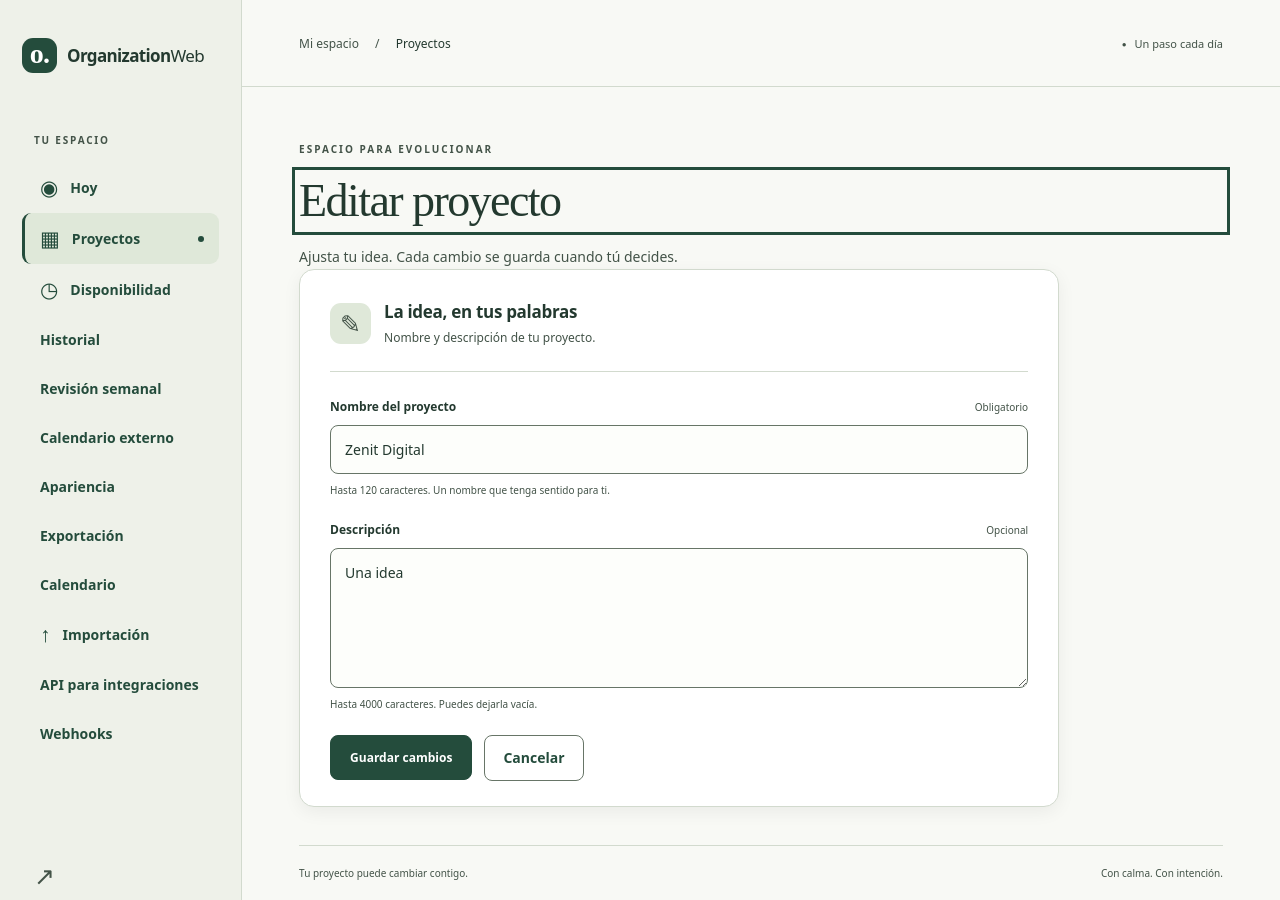
@s19 solo recarga versión guardada mediante decisión explícita tras conflicto
Replace the text in the field labelled "Nombre del proyecto Obligatorio" with "Mi borrador". click: (679,450)
box: [330, 425, 1028, 474]
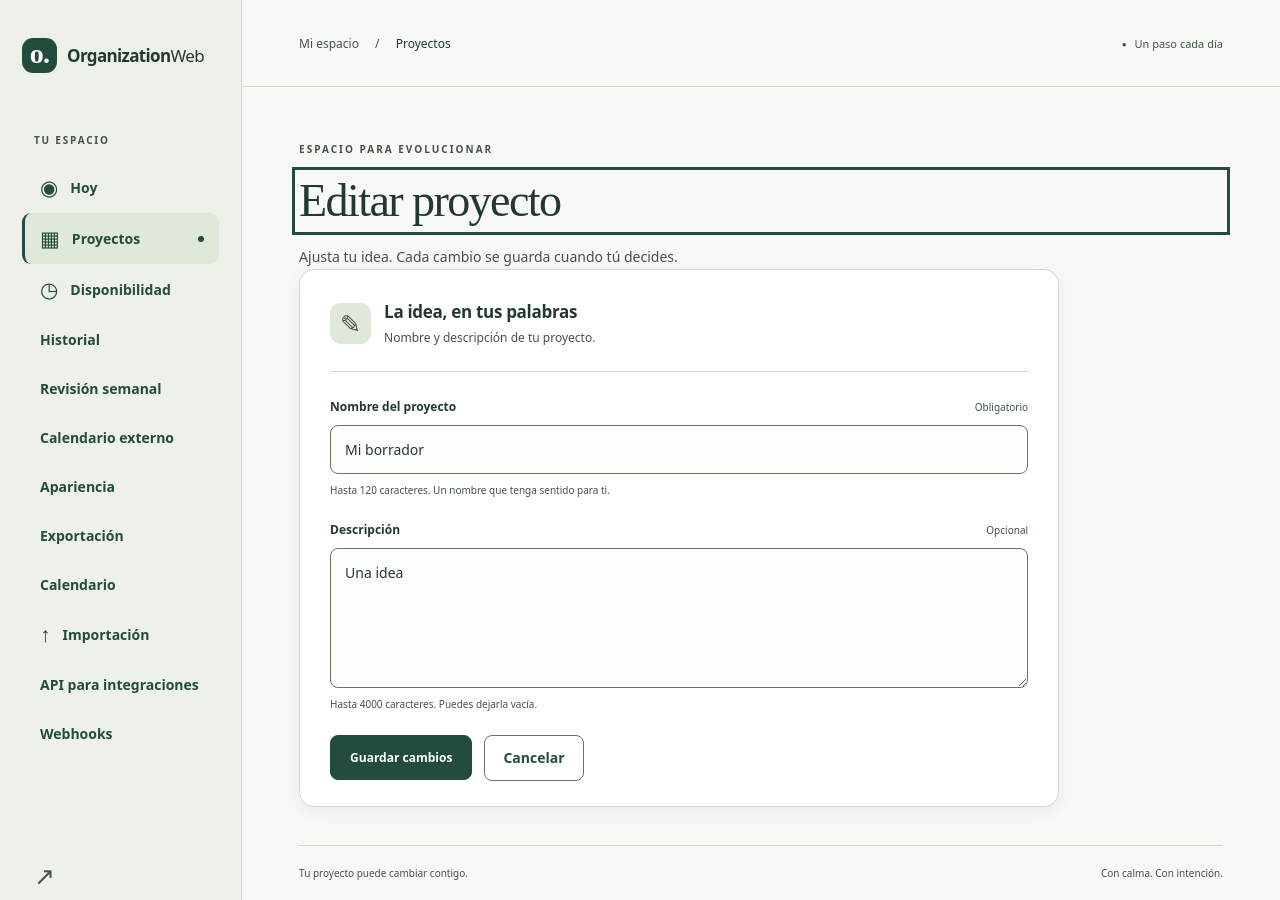
Click the button "Guardar cambios". click: (401,758)
box: [330, 736, 472, 780]
(page scrolled)
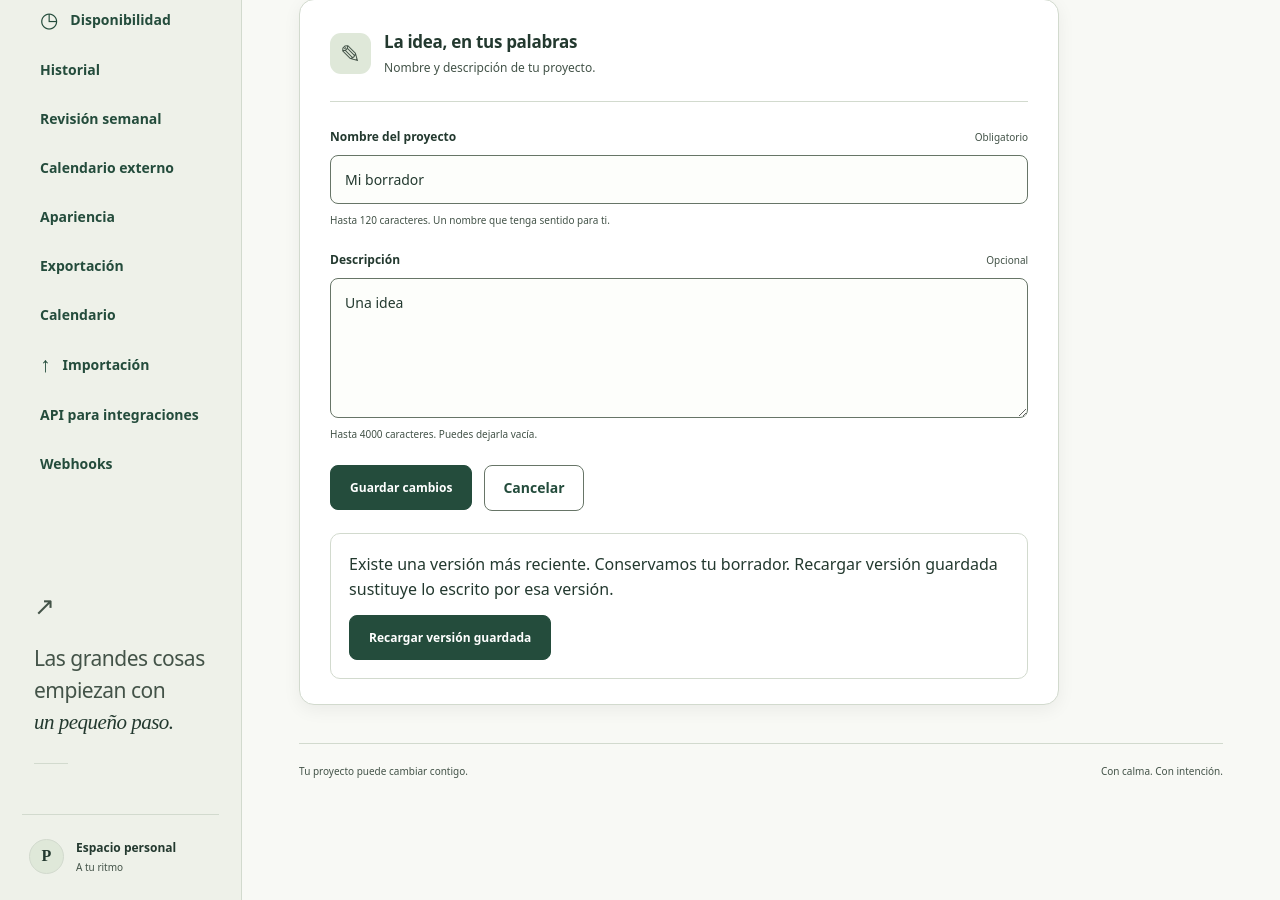
Expected: the message shows "versión más reciente", [349, 553, 998, 600]
Click the button "Recargar versión guardada". click: (450,637)
box: [349, 615, 551, 660]
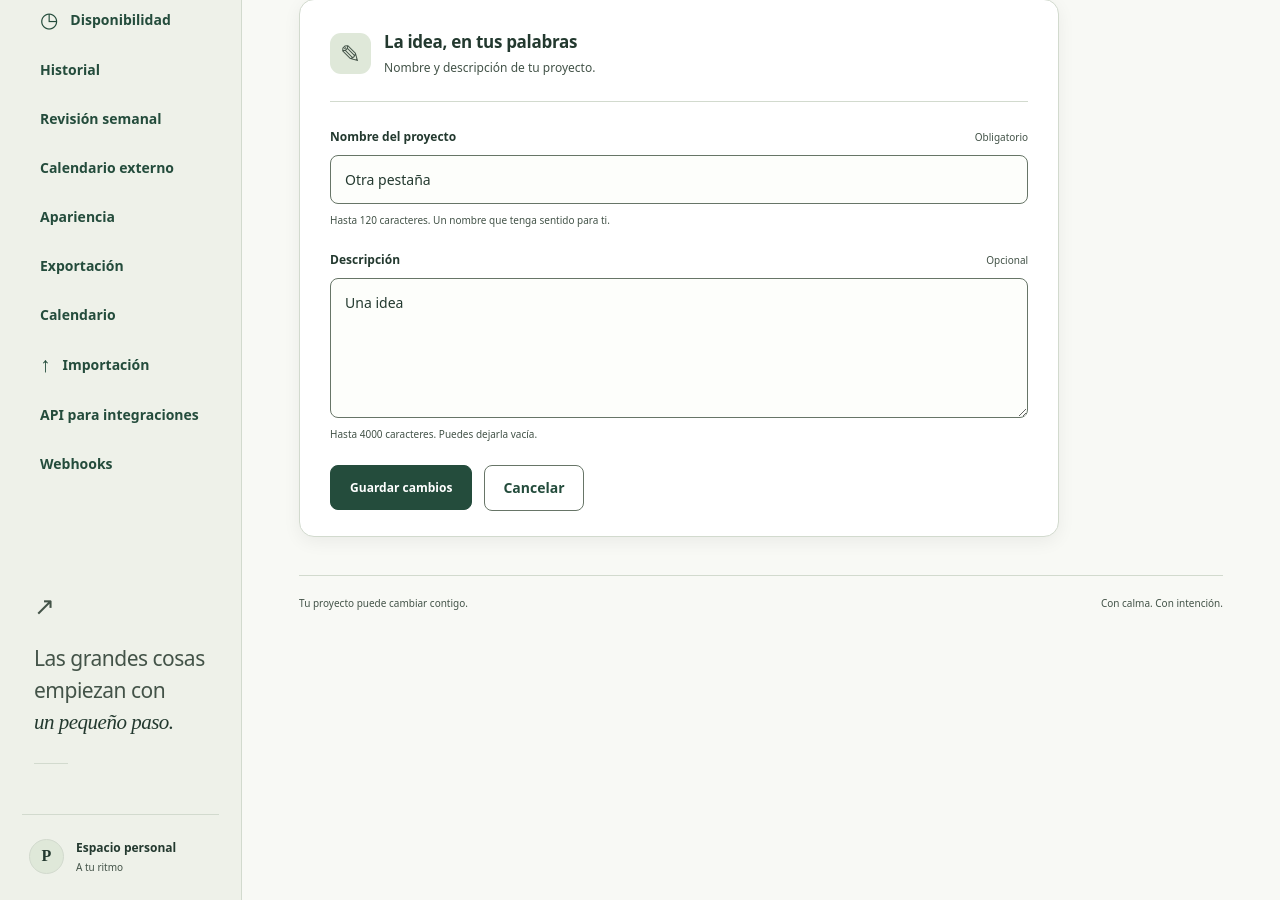
Expected: the field labelled "Nombre del proyecto Obligatorio" holds "Otra pestaña", [330, 155, 1028, 204]
Click the button "Guardar cambios". click: (401,488)
box: [330, 466, 472, 510]
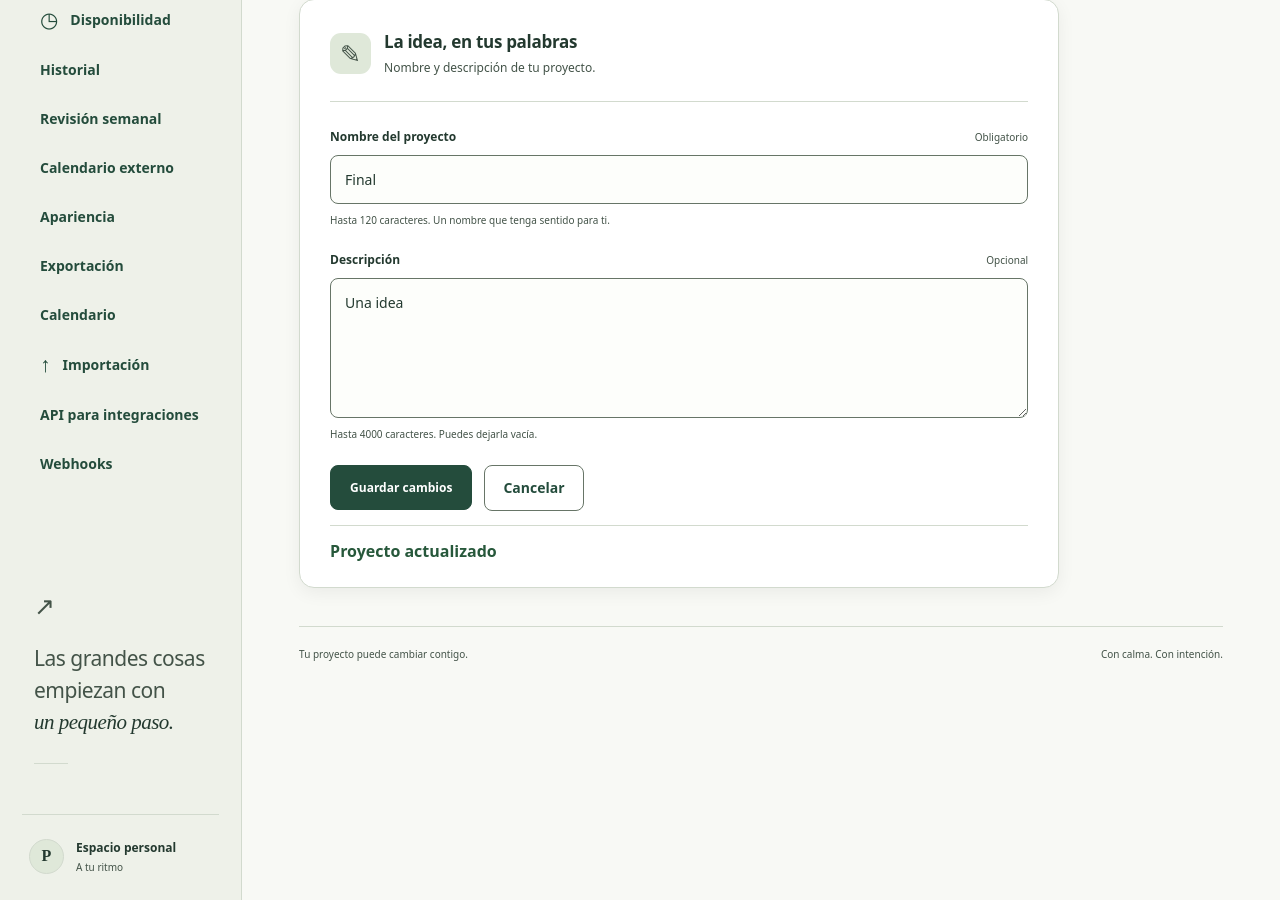
Expected: the message reads "Proyecto actualizado", [330, 540, 497, 562]
